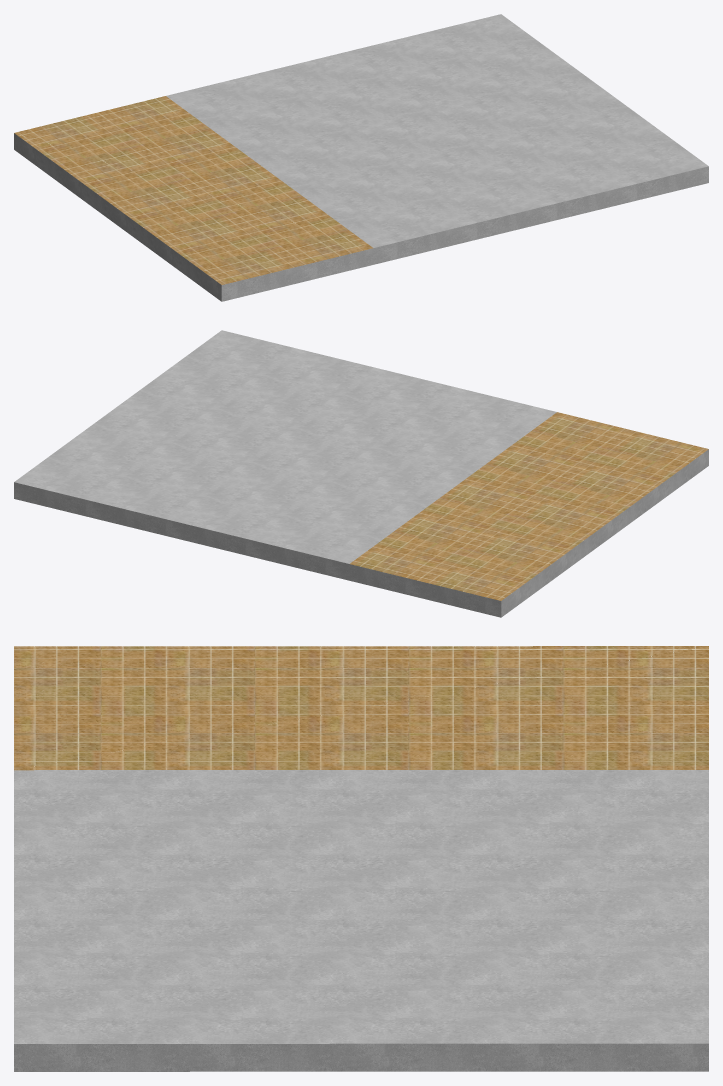
File: Floor_36f3fa3f.obj
3 views of the same model, one above another, from view 1: azimuth 30°, elevation 25°; view 2: azimuth 150°, elevation 25°; view 3: azimuth 270°, elevation 25° (orthographic). The views are drawn at different scales.
Parts seen in each view (by area): view 1: mesh_c60edd6e; view 2: mesh_c60edd6e; view 3: mesh_c60edd6e.
Boxes of the visible parts, x1=… form: mesh_c60edd6e: x1=14, y1=14, x2=708, y2=301; mesh_c60edd6e: x1=14, y1=330, x2=708, y2=617; mesh_c60edd6e: x1=14, y1=646, x2=708, y2=1071.
Bounding box in the file's own units: 6.1 × 0.2016 × 4.51.
